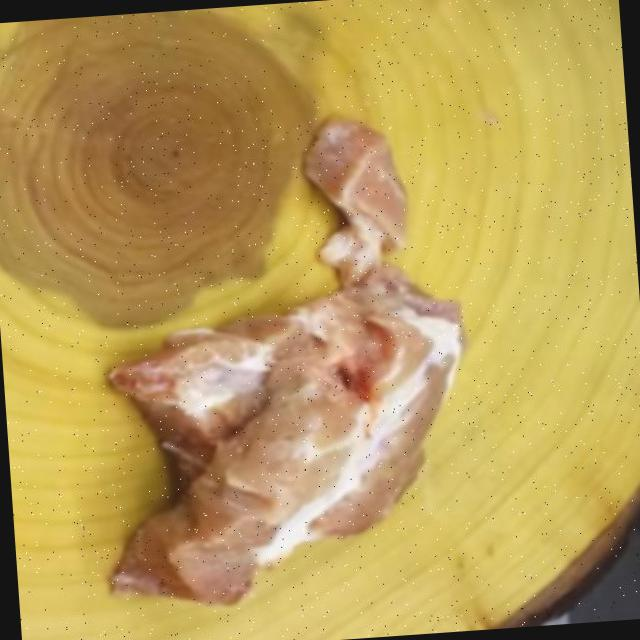potato: (71, 122, 468, 618)
